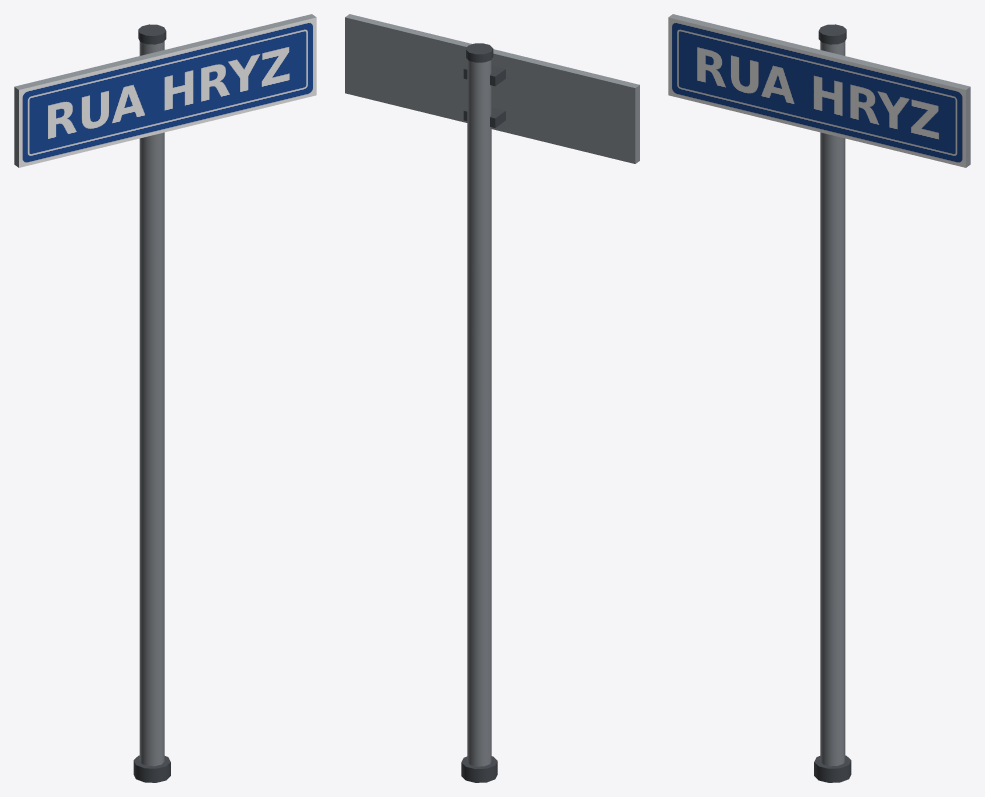
The model's file is placa-rua-hryz.glb.
3 renders of one model, left to right at view 1: azimuth 30°, elevation 25°; view 2: azimuth 150°, elevation 25°; view 3: azimuth 330°, elevation 25°, orthographic. The views are drawn at different scales.
Parts seen in each view (by area): view 1: Placa, Poste; view 2: Placa, Poste, Suportes; view 3: Placa, Poste.
Part boxes in pixels (bbox=[...]): Placa: bbox=[14, 14, 316, 167]; Poste: bbox=[133, 24, 170, 782]; Placa: bbox=[345, 14, 639, 163]; Poste: bbox=[461, 43, 497, 782]; Suportes: bbox=[463, 65, 505, 127]; Placa: bbox=[668, 14, 970, 167]; Poste: bbox=[814, 24, 851, 782].
Bounding box in the file's own units: 1.1 × 2.63 × 0.1571.
Materials: 4 (1 with a texture image).
